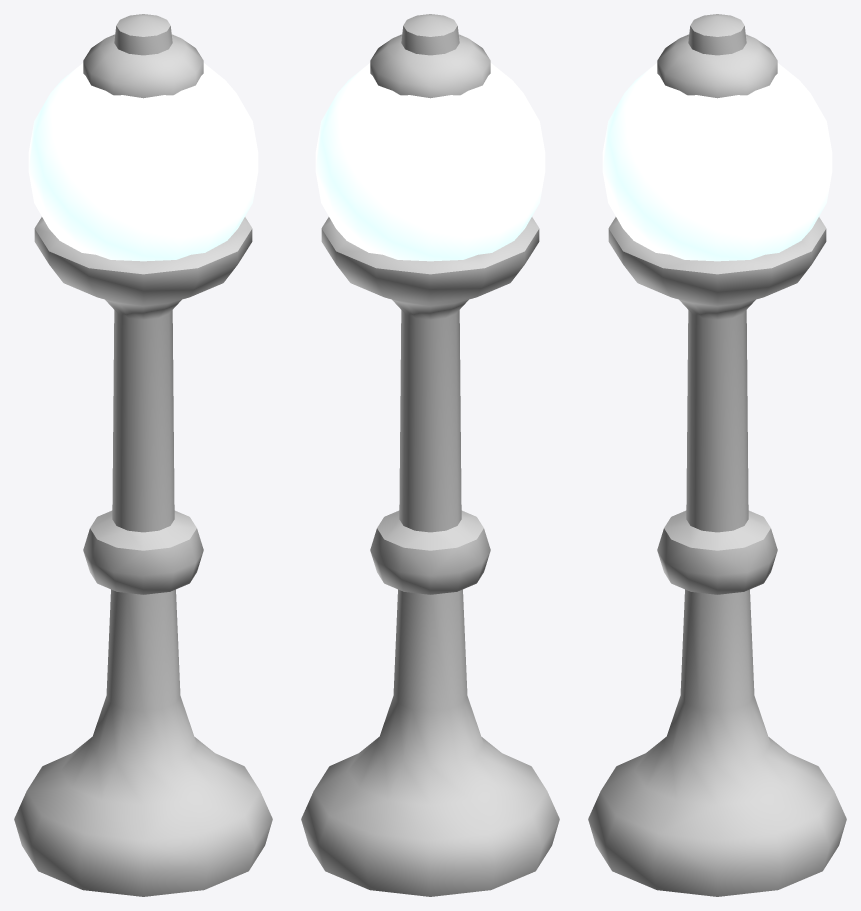
Rendered from Hub_CleanLamp.fbx.
The picture shows the model from 3 angles, left to right: view 1: azimuth 30°, elevation 25°; view 2: azimuth 150°, elevation 25°; view 3: azimuth 270°, elevation 25°; orthographic projection.
Parts seen in each view (by area): view 1: CleanLamp_Body, CleanLamp_Glow; view 2: CleanLamp_Body, CleanLamp_Glow; view 3: CleanLamp_Body, CleanLamp_Glow.
Boxes of the visible parts, box(x1,y1,x2,y2) form: CleanLamp_Body: box(14, 14, 272, 896); CleanLamp_Glow: box(28, 63, 258, 261); CleanLamp_Body: box(301, 14, 559, 896); CleanLamp_Glow: box(315, 63, 545, 261); CleanLamp_Body: box(588, 14, 846, 896); CleanLamp_Glow: box(602, 63, 832, 261).
Bounding box in the file's own units: 2.66 × 9.4 × 2.66.
